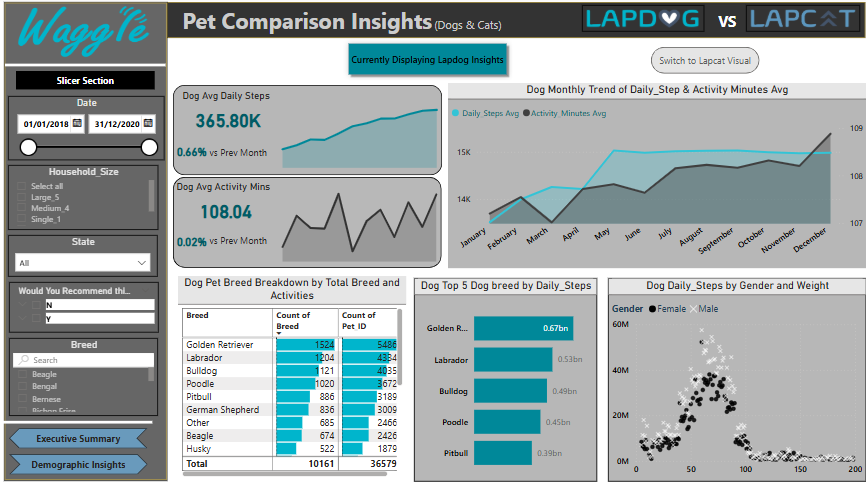

Layout of this report page (visuals, bound fields, positions):
{"tool":"powerbi","page":{"name":"Pet Comparison Insights","canvas":[1280,720],"ordinal":1},"visuals":[{"type":"shape","box":[246.2,6.8,1022,52.8],"z":0},{"type":"shape","box":[255,262.8,392.8,132.9],"z":1000},{"type":"areaChart","title":"Dog Monthly Trend of Daily_Step & Activity Minutes Avg","fields":{"Category":["Date_Table.Date.Variation.Date Hierarchy.Month"],"Y":["Avg(Tracker_Data.Daily_Steps)"],"Y2":["Avg(Tracker_Data.Activity_Minutes)"]},"box":[656.9,125.3,612.9,270.9],"z":2000},{"type":"image","title":"Lapdog Image Exec","box":[853.8,11.3,178.6,38.7],"z":3000},{"type":"scatterChart","title":"Dog Daily_Steps by Gender and Weight","fields":{"Series":["Pet_Data.Gender"],"X":["Pet_Data.Weight"],"Y":["Sum(Tracker_Data.Daily_Steps)"]},"box":[890.6,411.4,377.6,298],"z":4000},{"type":"barChart","title":"Dog Top 5 Dog breed by Daily_Steps","fields":{"Category":["Pet_Data.Breed"],"Y":["Sum(Tracker_Data.Daily_Steps)"]},"box":[607.8,411.4,267.5,298],"z":5000},{"type":"shape","box":[255,129,393.8,131.9],"z":6000},{"type":"card","title":"Dog Avg Daily Steps","fields":{"Values":["CountNonNull(Tracker_Data.Pet_ID)"]},"box":[262.8,135.8,143.6,70.4],"z":7000},{"type":"card","title":"Dog Avg Activity Mins","fields":{"Values":["Avg(Tracker_Data.Activity_Minutes)"]},"box":[255,268.7,154.4,72.3],"z":8000},{"type":"areaChart","title":"Dog Activity_Minutes by Month_Short","fields":{"Category":["Date_Table.Month_Short"],"Y":["Sum(Tracker_Data.Activity_Minutes)"]},"box":[406.5,271.6,241.3,115.3],"z":9000},{"type":"areaChart","title":"Dog Average of Daily_Steps by Month","fields":{"Category":["Date_Table.Date.Variation.Date Hierarchy.Month"],"Y":["Avg(Tracker_Data.Daily_Steps)"]},"box":[406.3,133.8,242.1,116.8],"z":10000},{"type":"image","box":[1093.6,12,166.7,39.4],"z":11000},{"type":"tableEx","title":"Dog Pet Breed Breakdown by Total Breed and Activities","fields":{"Values":["Pet_Data.Breed","CountNonNull(Pet_Data.Breed)","Tracker_Data.Pet_ID"]},"box":[262.4,408,333.5,298],"z":12000},{"type":"textbox","box":[302.9,343,106.5,29.3],"z":13000},{"type":"card","title":"Dog Card","fields":{"Values":["03_Dax Measures.Average Activity MoM % - Dog"]},"box":[255,338.1,54.7,42],"z":14000},{"type":"card","title":"Dog Card","fields":{"Values":["03_Dax Measures.Average Daily_Step MoM % - Dog"]},"box":[255,206.2,54.7,43],"z":15000},{"type":"textbox","box":[302.9,213,103.6,38.1],"z":16000},{"type":"actionButton","title":"Lapcat Button On","box":[954.9,73,158.6,38.8],"z":29000},{"type":"actionButton","title":"Lapdog Button On","box":[503.1,59.3,247.6,61.6],"z":32000},{"type":"shape","title":"Waggle logo","box":[6.8,6.8,239,700.6],"z":33000},{"type":"image","box":[21.5,6.8,203.2,86],"z":34000},{"type":"textbox","box":[1034.7,16,61.6,43.4],"z":35000},{"type":"shape","box":[8.8,92.8,235.5,14.7],"z":36000},{"type":"shape","box":[5.1,614.6,220.1,15.2],"z":37000},{"type":"textbox","box":[24.4,108.5,203.2,27.4],"z":38000},{"type":"pageNavigator","title":"Page navigator1","box":[14.7,668.3,203.2,30.3],"z":39000},{"type":"pageNavigator","title":"Page navigator1","box":[14.7,630.2,203.2,30.3],"z":40000},{"type":"slicer","title":"Date","fields":{"Values":["Date_Table.Date"]},"box":[12.7,145.6,228.6,93.8],"z":41000},{"type":"slicer","title":"Household_Size","fields":{"Values":["Family_Data.Household Category"]},"box":[13.7,246.2,219.8,94.8],"z":42000},{"type":"slicer","title":"State","fields":{"Values":["Family_Data.State"]},"box":[13.7,347.8,218.9,60.6],"z":43000},{"type":"slicer","title":"Slicer Would you Recommend","fields":{"Values":["Rating_Data.Would You Recommend this Product?","Rating_Data.Where Did You Buy This Product?"]},"box":[14.7,417.2,218.9,74.3],"z":44000},{"type":"slicer","title":"Breed","fields":{"Values":["Pet_Data.Breed"]},"box":[14.7,498.3,217.9,114.3],"z":45000},{"type":"textbox","box":[263.4,7.3,570.7,52.7],"z":46000}]}

Visuals, with their boxes in screenshot pixels (x1, y1, x2, y2), scaled from the page's 1280x720 canvas onto the 866x485 screenshot:
shape: 167,5,858,40
shape: 173,177,438,267
"Dog Monthly Trend of Daily_Step & Activity Minutes Avg" areaChart: 444,84,859,267
"Lapdog Image Exec" image: 578,8,698,34
"Dog Daily_Steps by Gender and Weight" scatterChart: 603,277,858,478
"Dog Top 5 Dog breed by Daily_Steps" barChart: 411,277,592,478
shape: 173,87,439,176
"Dog Avg Daily Steps" card: 178,91,275,139
"Dog Avg Activity Mins" card: 173,181,277,230
"Dog Activity_Minutes by Month_Short" areaChart: 275,183,438,261
"Dog Average of Daily_Steps by Month" areaChart: 275,90,439,169
image: 740,8,853,35
"Dog Pet Breed Breakdown by Total Breed and Activities" tableEx: 178,275,403,476
textbox: 205,231,277,251
"Dog Card" card: 173,228,210,256
"Dog Card" card: 173,139,210,168
textbox: 205,143,275,169
"Lapcat Button On" actionButton: 646,49,753,75
"Lapdog Button On" actionButton: 340,40,508,81
"Waggle logo" shape: 5,5,166,477
image: 15,5,152,63
textbox: 700,11,742,40
shape: 6,63,165,72
shape: 3,414,152,424
textbox: 17,73,154,92
"Page navigator1" pageNavigator: 10,450,147,471
"Page navigator1" pageNavigator: 10,425,147,445
"Date" slicer: 9,98,163,161
"Household_Size" slicer: 9,166,158,230
"State" slicer: 9,234,157,275
"Slicer Would you Recommend" slicer: 10,281,158,331
"Breed" slicer: 10,336,157,413
textbox: 178,5,564,40
